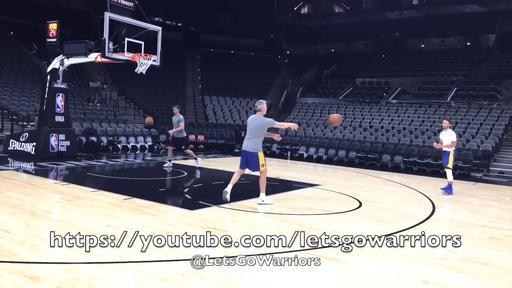ball: (328, 113, 342, 126), (145, 117, 154, 127)
human: (222, 99, 298, 205), (164, 104, 202, 168), (432, 119, 458, 194)
rim: (134, 53, 154, 74)
